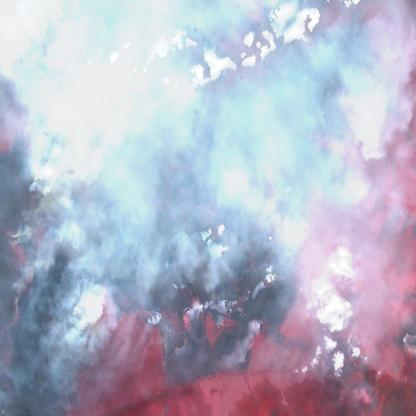fire: (0, 0, 103, 416), (199, 296, 240, 349), (154, 342, 179, 398)
